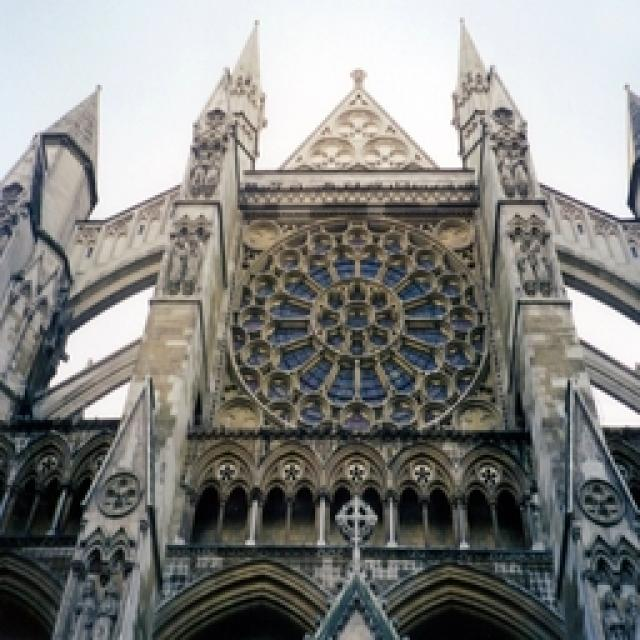Abbey: (144, 51, 603, 640)
